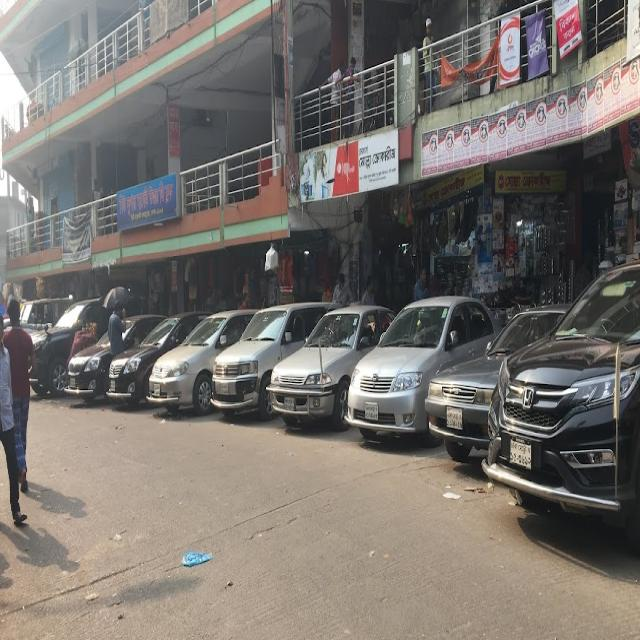car: (487, 242, 633, 496), (349, 280, 467, 444), (277, 266, 346, 416), (211, 266, 277, 422), (146, 307, 212, 412), (430, 332, 487, 450), (107, 334, 146, 408), (69, 334, 103, 401)
